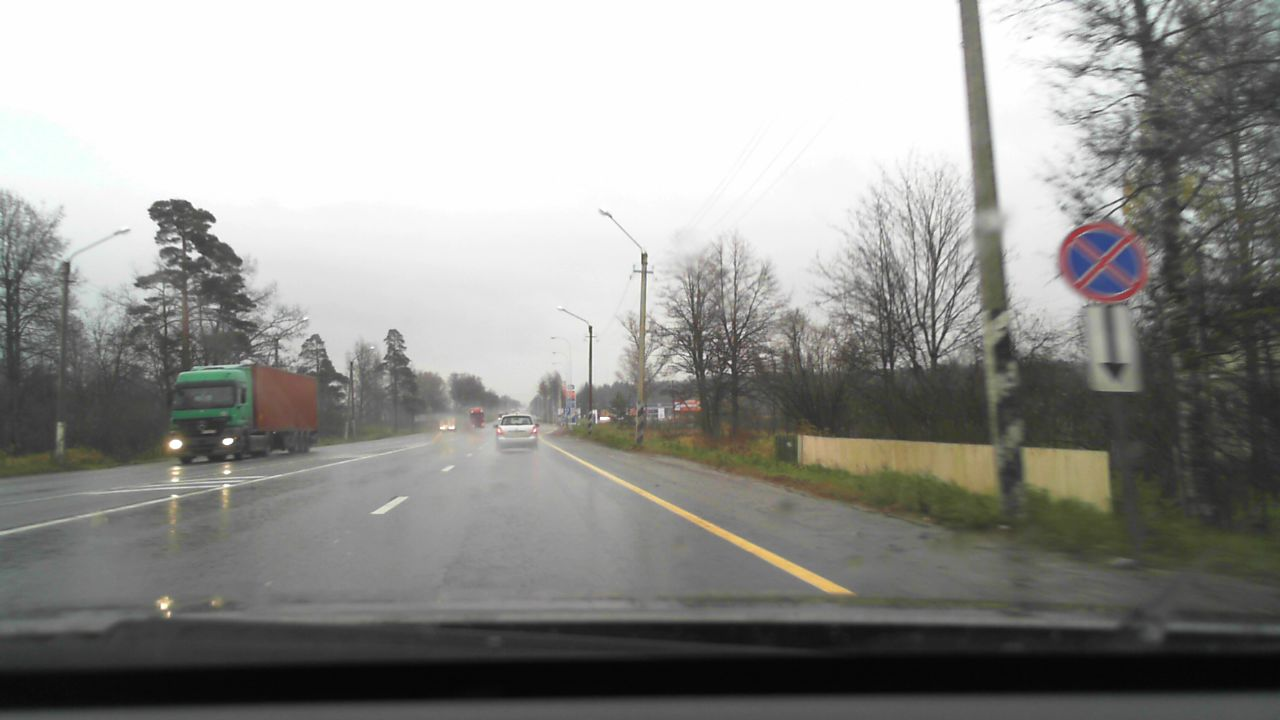No Parking: (1058, 223, 1146, 302)
